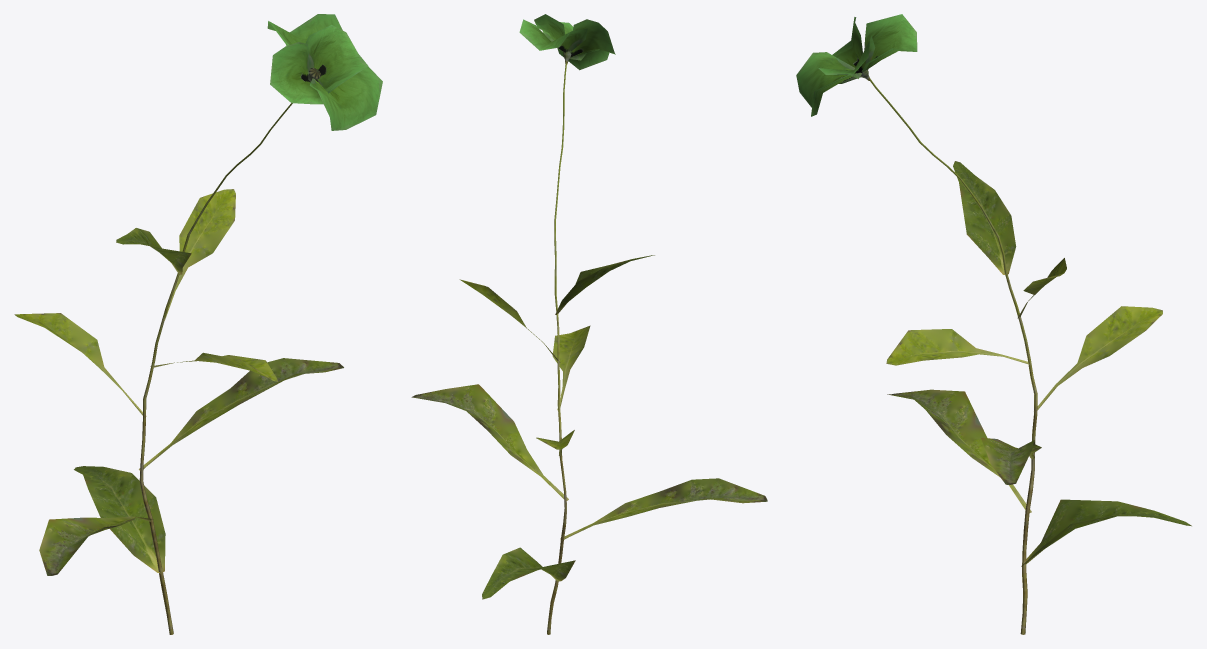
The model's file is Poppy_OG_normal_greenyellow.glb.
3 views of the same model, side by side, from view 1: azimuth 30°, elevation 25°; view 2: azimuth 150°, elevation 25°; view 3: azimuth 270°, elevation 25° (orthographic). The views are drawn at different scales.
Parts seen in each view (by area): view 1: xtall; view 2: xtall; view 3: xtall.
Boxes of the visible parts, left/top/right/bottom form: xtall: left=14, top=14, right=382, bottom=634; xtall: left=411, top=14, right=767, bottom=634; xtall: left=796, top=14, right=1191, bottom=634.
Bounding box in the file's own units: 1.75 × 3.06 × 1.73.
1 material, 1 textured.
